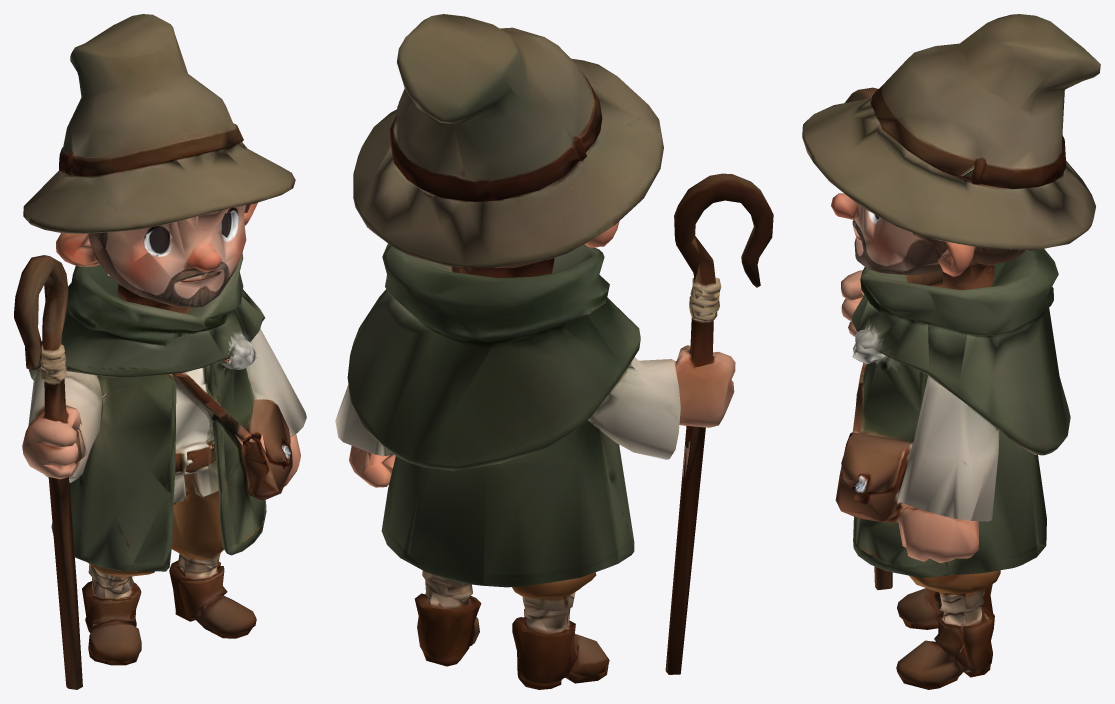
File: postuh.glb
3 renders of one model, left to right at view 1: azimuth 30°, elevation 25°; view 2: azimuth 150°, elevation 25°; view 3: azimuth 270°, elevation 25°, orthographic. The views are drawn at different scales.
Parts seen in each view (by area): view 1: model; view 2: model; view 3: model.
Part boxes in pixels (x1=…): model: x1=14, y1=14, x2=306, y2=689; model: x1=335, y1=14, x2=773, y2=689; model: x1=802, y1=14, x2=1100, y2=689.
Size of the model in its own units: 1.14 by 1.9 by 0.8188.
Materials: 1 (1 with a texture image).
